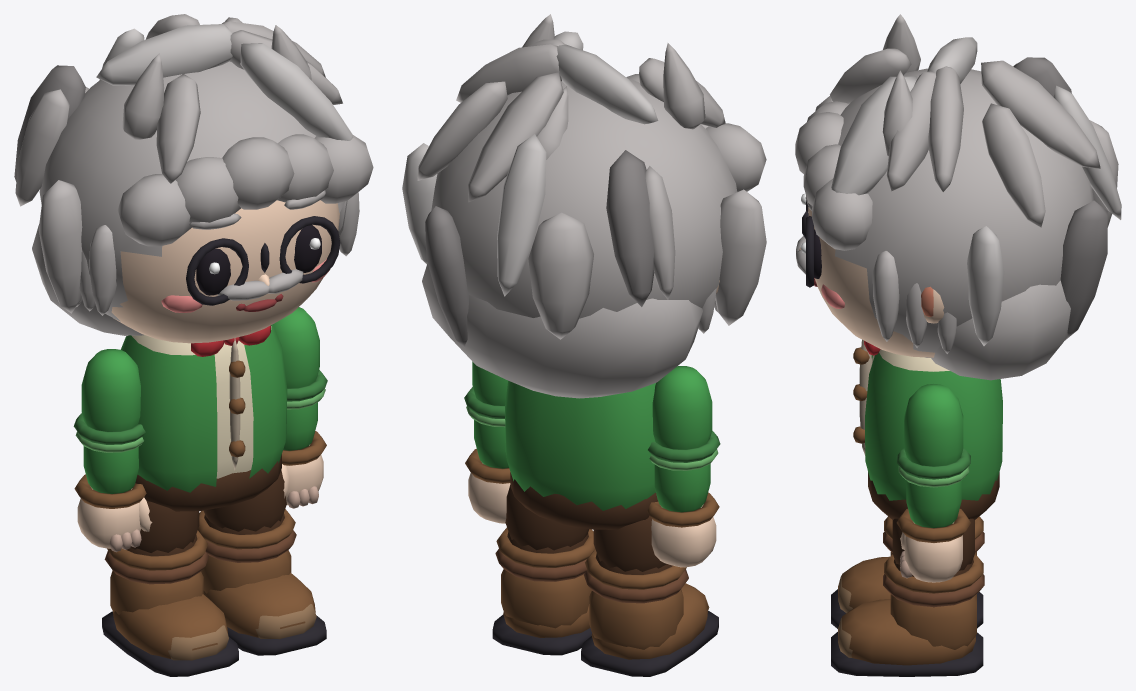
The model's file is prof.glb.
3 views of the same model, side by side, from view 1: azimuth 30°, elevation 25°; view 2: azimuth 150°, elevation 25°; view 3: azimuth 270°, elevation 25° (orthographic).
Visible parts, largest first — view 1: hair, torso, head, shin_r, shin_l, arm_r, arm_l, glasses, hand_r, leg_l, leg_r, hand_l (+2 smaller); view 2: hair, torso, shin_r, shin_l, arm_r, arm_l, leg_r, leg_l, hand_r, hand_l; view 3: hair, torso, shin_l, arm_l, head, shin_r, hand_l, leg_l, glasses.
Boxes of the visible parts, left/top/right/bottom form: hair: left=14, top=14, right=373, bottom=336; torso: left=120, top=324, right=287, bottom=511; head: left=111, top=190, right=339, bottom=343; shin_r: left=102, top=530, right=238, bottom=676; shin_l: left=198, top=509, right=326, bottom=655; arm_r: left=73, top=349, right=146, bottom=508; arm_l: left=273, top=307, right=327, bottom=465; glasses: left=186, top=216, right=340, bottom=305; hand_r: left=77, top=486, right=152, bottom=551; leg_l: left=204, top=470, right=286, bottom=534; leg_r: left=126, top=500, right=199, bottom=556; hand_l: left=281, top=445, right=323, bottom=508; hair: left=402, top=14, right=766, bottom=398; torso: left=505, top=380, right=658, bottom=529; shin_r: left=581, top=549, right=718, bottom=676; shin_l: left=492, top=527, right=595, bottom=655; arm_r: left=647, top=366, right=720, bottom=527; arm_l: left=464, top=361, right=510, bottom=483; leg_r: left=593, top=516, right=672, bottom=574; leg_l: left=505, top=485, right=589, bottom=553; hand_r: left=651, top=504, right=716, bottom=567; hand_l: left=468, top=463, right=510, bottom=523; hair: left=795, top=14, right=1121, bottom=380; torso: left=853, top=339, right=1002, bottom=519; shin_l: left=831, top=554, right=984, bottom=676; arm_l: left=896, top=384, right=970, bottom=542; head: left=799, top=196, right=944, bottom=357; shin_r: left=831, top=516, right=984, bottom=628; hand_l: left=900, top=522, right=962, bottom=582; leg_l: left=892, top=518, right=974, bottom=576; glasses: left=802, top=200, right=813, bottom=287.
Size of the model in its own units: 0.5514 by 0.9859 by 0.4869.
1 material, 1 textured.
